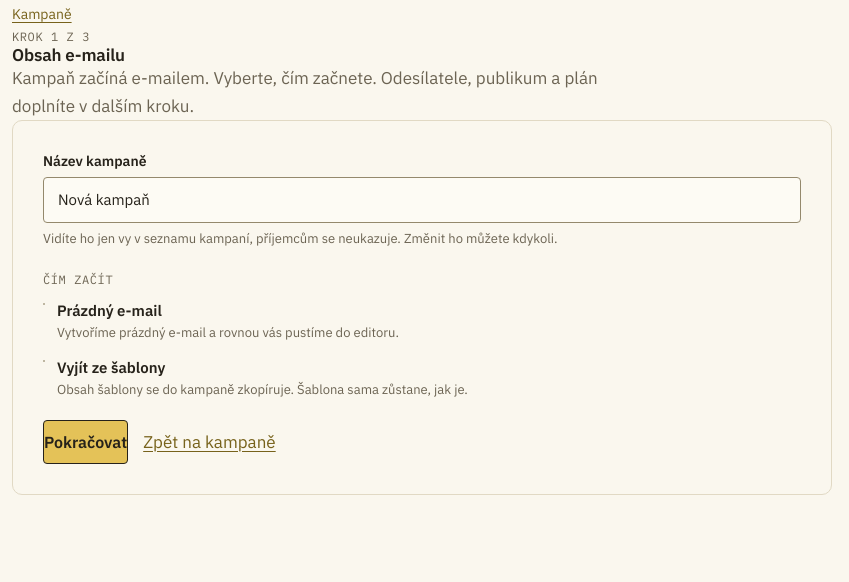
Test: krok 1: obsah e-mailu › bez jediné šablony to nabídne cestu k šablonám, ne prázdný seznam
This screenshot has width=849, height=582.
What coordinates should you click on to do the following:
click the radio button with test id "campaign-source-template"
I would click on:
 (44, 361)
Its box is [43,360,45,362].
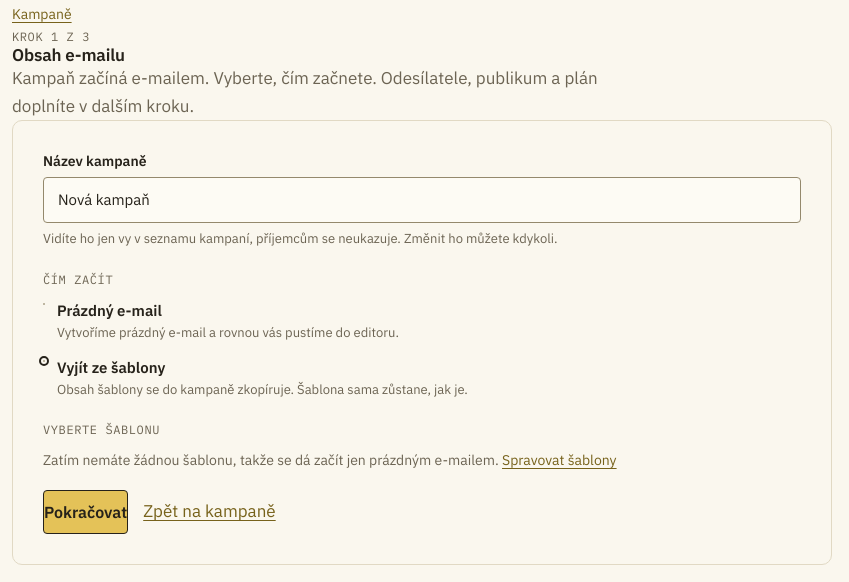
Check: the element with test id "template-choice" shows "Zatím nemáte žádnou šablonu", box [43,450,499,468]
